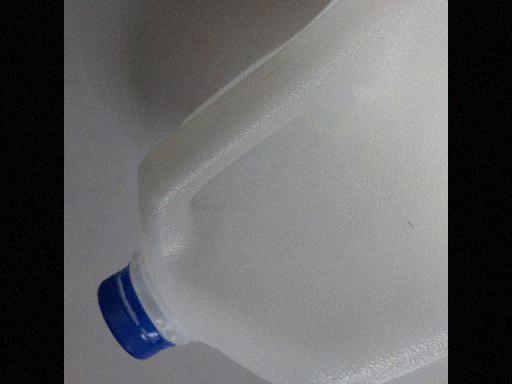plastic: (90, 4, 448, 384)
